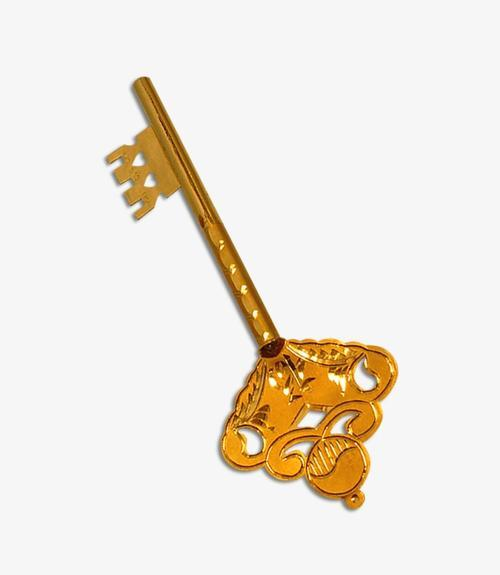key: (91, 57, 441, 527)
